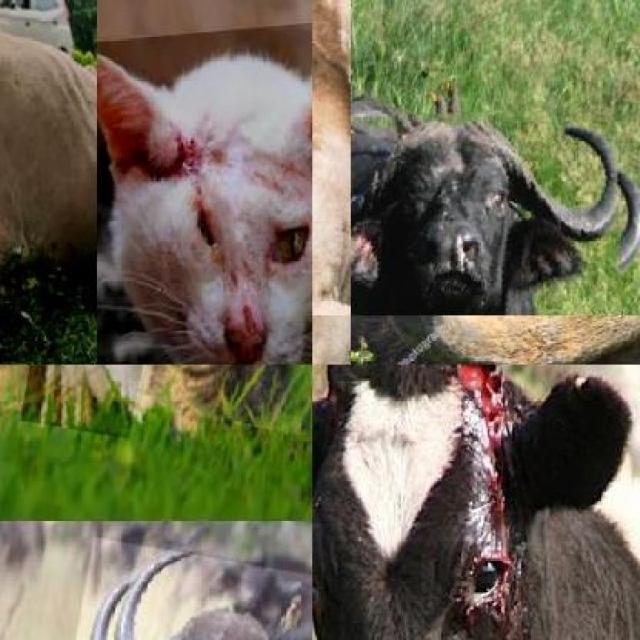buffalo: (351, 56, 640, 316), (6, 535, 312, 640)
cat: (97, 0, 312, 365), (138, 364, 312, 434), (18, 364, 178, 438), (0, 365, 68, 412)
cow: (312, 364, 639, 640), (0, 0, 97, 365)
injured: (438, 364, 553, 640), (97, 77, 220, 226), (183, 240, 291, 365)
